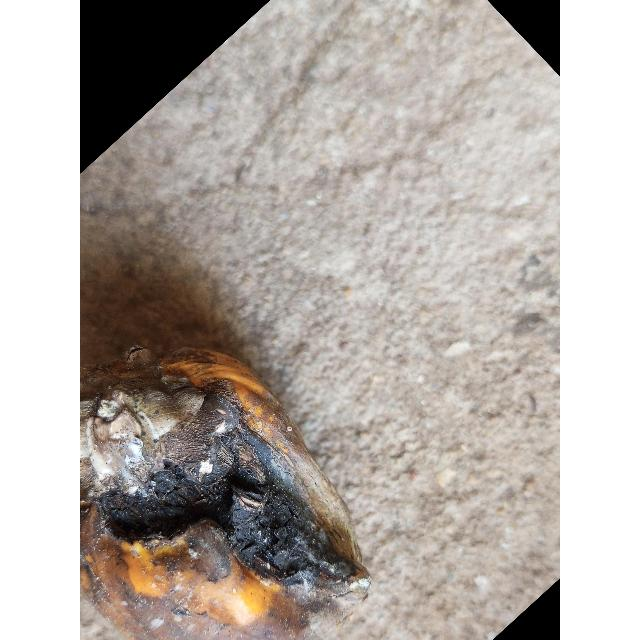damaged: (80, 356, 370, 640)
